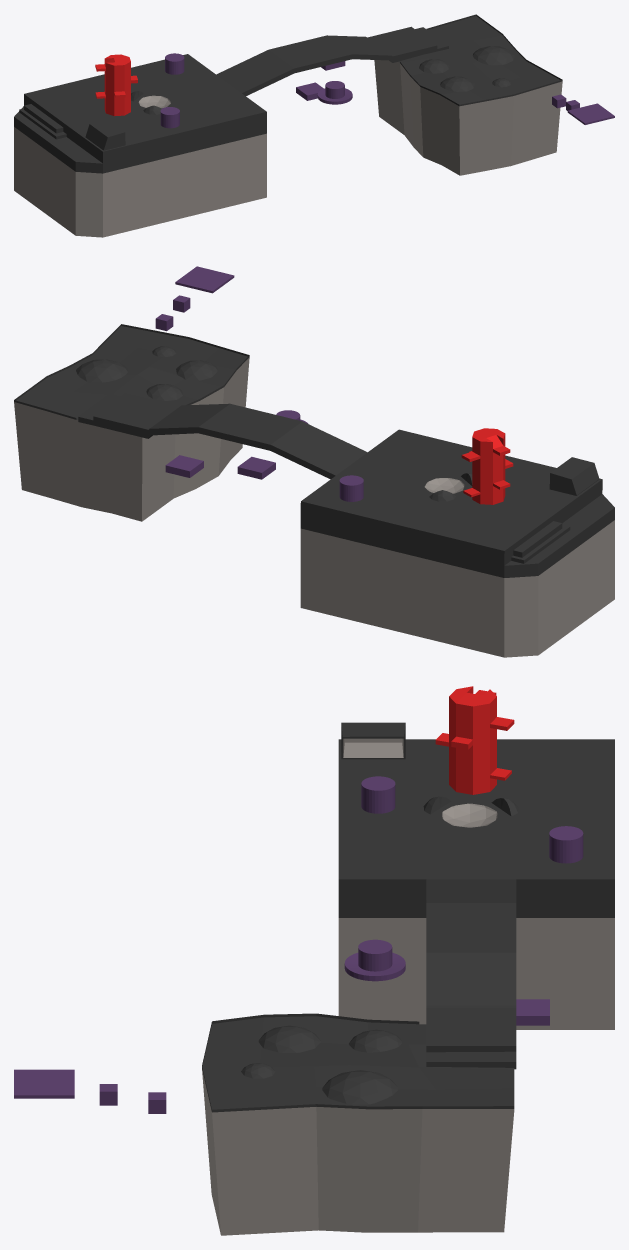
File: level_v1.glb
3 renders of one model, top to bottom at view 1: azimuth 30°, elevation 25°; view 2: azimuth 150°, elevation 25°; view 3: azimuth 270°, elevation 25°, orthographic. The views are drawn at different scales.
Visible parts, largest first — view 1: Plane.002, Plane, Plane.001, Cylinder.003, Cube, Hill.001, Cylinder.002, Plane.005, Hill, Cube.002, Cylinder, Cylinder.001 (+2 smaller); view 2: Plane.002, Plane, Plane.001, Cylinder.003, Cube, Plane.005, Hill.001, Hill, Cube.002, Plane.006, Plane.007, Cylinder; view 3: Plane.002, Plane, Plane.001, Cylinder.003, Cube, Hill.001, Cylinder.002, Plane.005, Hill, Cylinder, Cylinder.001, Hill.003 (+1 smaller).
Part boxes in pixels (x1,y1,x2,y2): Plane.002: [14, 54, 266, 237]; Plane: [374, 14, 562, 175]; Plane.001: [216, 26, 448, 95]; Cylinder.003: [95, 54, 137, 116]; Cube: [85, 119, 125, 150]; Hill.001: [473, 46, 514, 65]; Cylinder.002: [317, 81, 352, 104]; Plane.005: [567, 103, 614, 124]; Hill: [440, 76, 474, 91]; Cube.002: [24, 104, 63, 133]; Cylinder: [165, 53, 184, 74]; Cylinder.001: [160, 107, 179, 128]; Plane.002: [300, 429, 614, 657]; Plane: [14, 324, 249, 521]; Plane.001: [78, 393, 367, 479]; Cylinder.003: [461, 428, 513, 504]; Cube: [549, 457, 599, 495]; Plane.005: [175, 266, 234, 293]; Hill.001: [76, 359, 127, 382]; Hill: [176, 360, 217, 380]; Cube.002: [513, 521, 562, 557]; Plane.006: [237, 456, 275, 479]; Plane.007: [165, 455, 203, 477]; Cylinder: [339, 475, 363, 501]; Plane.002: [338, 739, 614, 1029]; Plane: [202, 1013, 514, 1235]; Plane.001: [426, 879, 516, 1069]; Cylinder.003: [435, 686, 514, 794]; Cube: [341, 722, 405, 759]; Hill.001: [322, 1070, 398, 1104]; Cylinder.002: [344, 939, 405, 981]; Plane.005: [14, 1069, 74, 1098]; Hill: [258, 1025, 321, 1052]; Cylinder: [549, 826, 583, 863]; Cylinder.001: [361, 776, 395, 813]; Hill.003: [349, 1029, 401, 1052].
Bounding box in the file's own units: 462 × 136 × 311.
